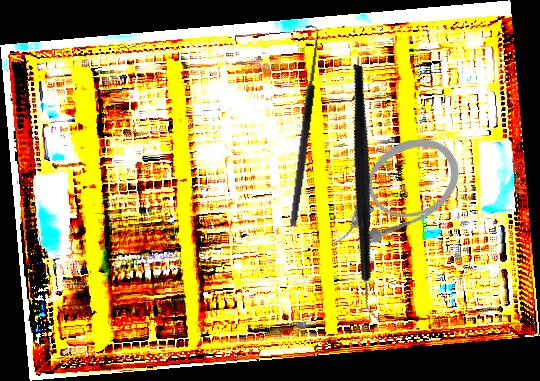Cannula: (309, 122, 474, 265)
Chopper: (279, 63, 457, 324)
Hook Surgical: (279, 24, 324, 227)
